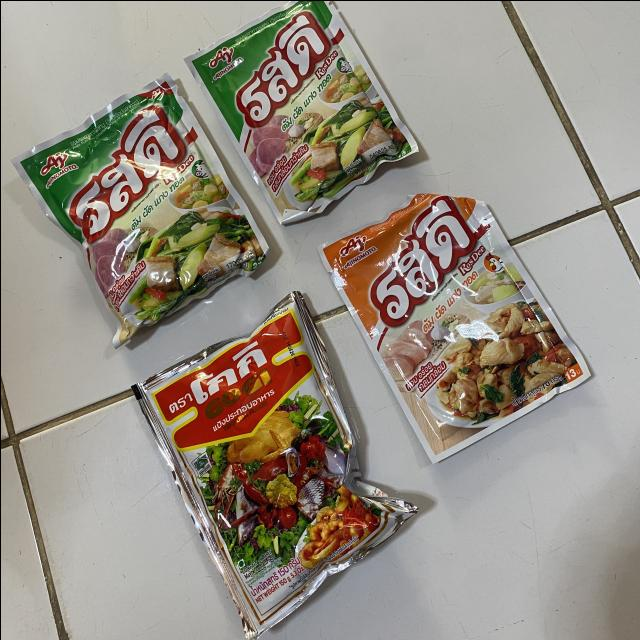plastik: (132, 292, 414, 626), (318, 193, 589, 462), (12, 74, 267, 346), (185, 0, 416, 223)
